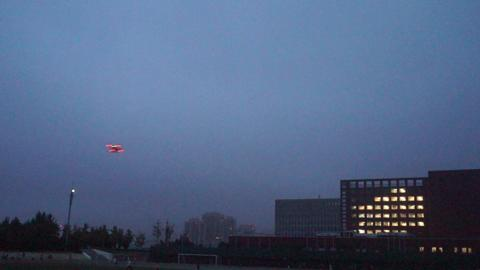UAV: (106, 144, 125, 152)
